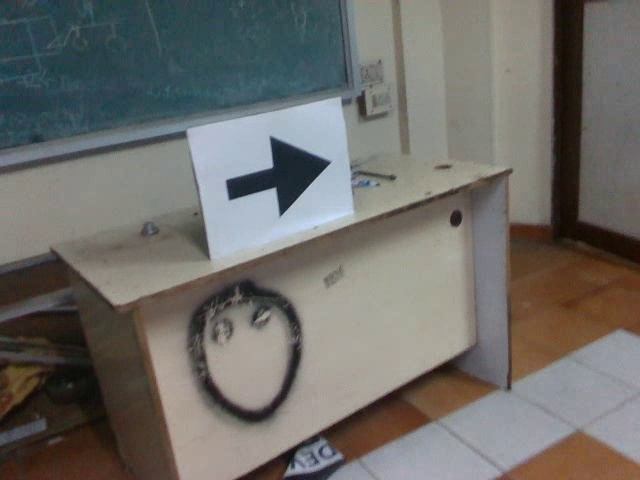Right: (217, 130, 335, 220)
